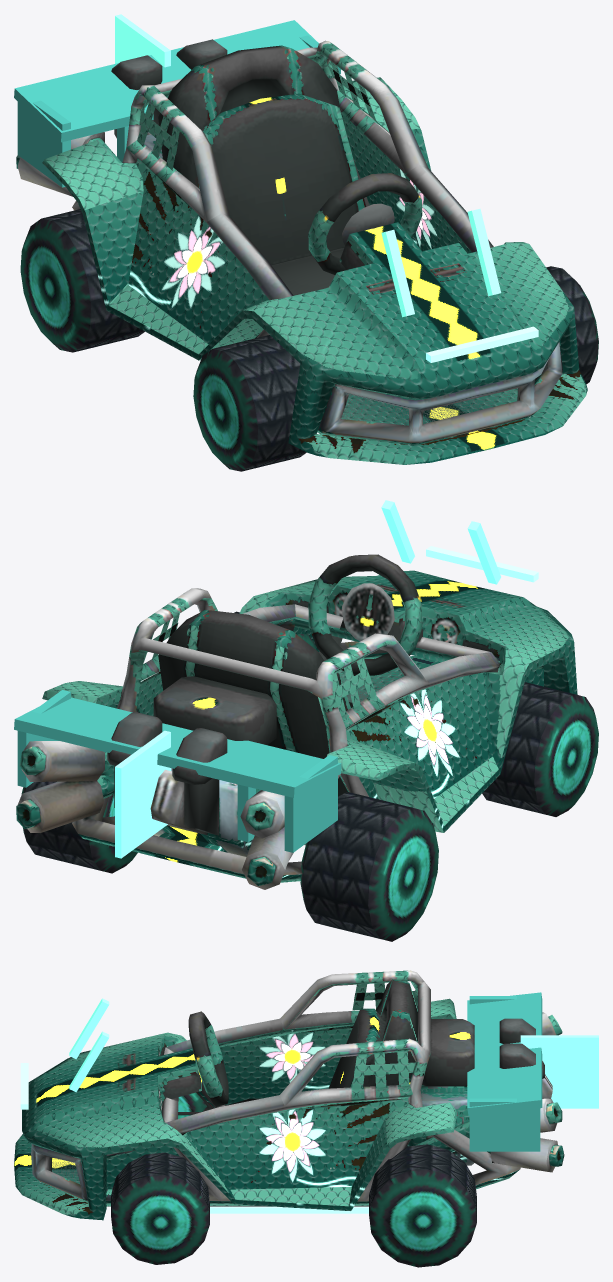
Rendered from kart_6_Vy_Lotus_S-Emerald_Dragon.glb.
The picture shows the model from 3 angles, top to bottom: view 1: azimuth 30°, elevation 25°; view 2: azimuth 150°, elevation 25°; view 3: azimuth 270°, elevation 25°; orthographic projection. The views are drawn at different scales.
Visible parts, largest first — view 1: kartModel, tireTest (2), Wing, tireTest (1), ThemeExtras, tireTest (3), NeonStrips; view 2: kartModel, tireTest (1), Wing, tireTest (2), ThemeExtras, tireTest, NeonStrips; view 3: kartModel, tireTest, Wing, tireTest (3), ThemeExtras, NeonStrips, tireTest (2).
Part boxes in pixels (x1=…): kartModel: x1=16, y1=39, x2=587, y2=464; tireTest (2): x1=193, y1=335, x2=306, y2=471; Wing: x1=14, y1=20, x2=340, y2=187; tireTest (1): x1=20, y1=209, x2=144, y2=352; ThemeExtras: x1=115, y1=14, x2=501, y2=317; tireTest (3): x1=546, y1=266, x2=598, y2=384; NeonStrips: x1=426, y1=326, x2=538, y2=362; kartModel: x1=16, y1=554, x2=577, y2=889; tireTest (1): x1=300, y1=792, x2=438, y2=941; Wing: x1=14, y1=690, x2=341, y2=852; tireTest (2): x1=482, y1=682, x2=598, y2=816; ThemeExtras: x1=115, y1=500, x2=500, y2=858; tireTest: x1=21, y1=781, x2=137, y2=873; NeonStrips: x1=426, y1=546, x2=538, y2=582; kartModel: x1=14, y1=970, x2=564, y2=1220; tireTest: x1=369, y1=1144, x2=476, y2=1267; Wing: x1=467, y1=992, x2=542, y2=1151; tireTest (3): x1=111, y1=1152, x2=209, y2=1264; ThemeExtras: x1=69, y1=998, x2=598, y2=1108; NeonStrips: x1=20, y1=1063, x2=368, y2=1213; tireTest (2): x1=178, y1=1092, x2=206, y2=1118.
Bounding box in the file's own units: 0.0167 × 0.0118 × 0.0298.
Materials: 5 (2 with a texture image).
